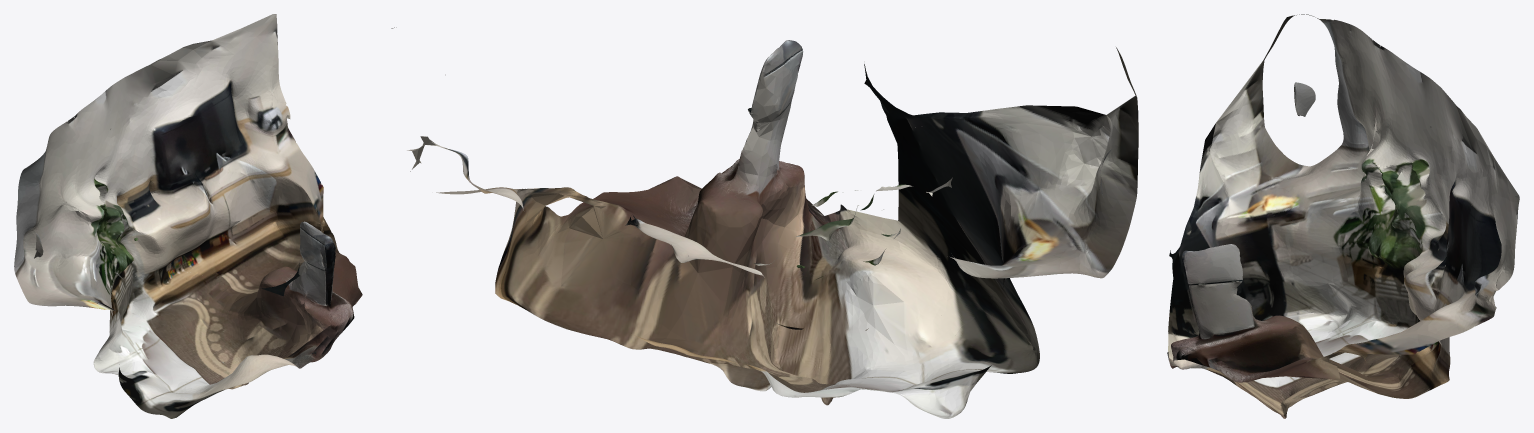
Rendered from Play5GaussianVideo.glb.
3 views of the same model, side by side, from view 1: azimuth 30°, elevation 25°; view 2: azimuth 150°, elevation 25°; view 3: azimuth 270°, elevation 25° (orthographic). The views are drawn at different scales.
Bounding box in the file's own units: 1.26 × 0.9644 × 1.01.
1 material, 1 textured.
